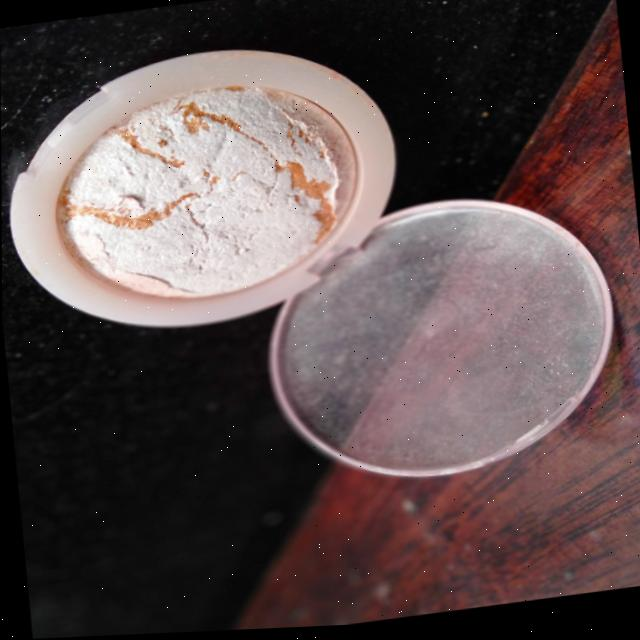powder: (0, 29, 418, 364)
